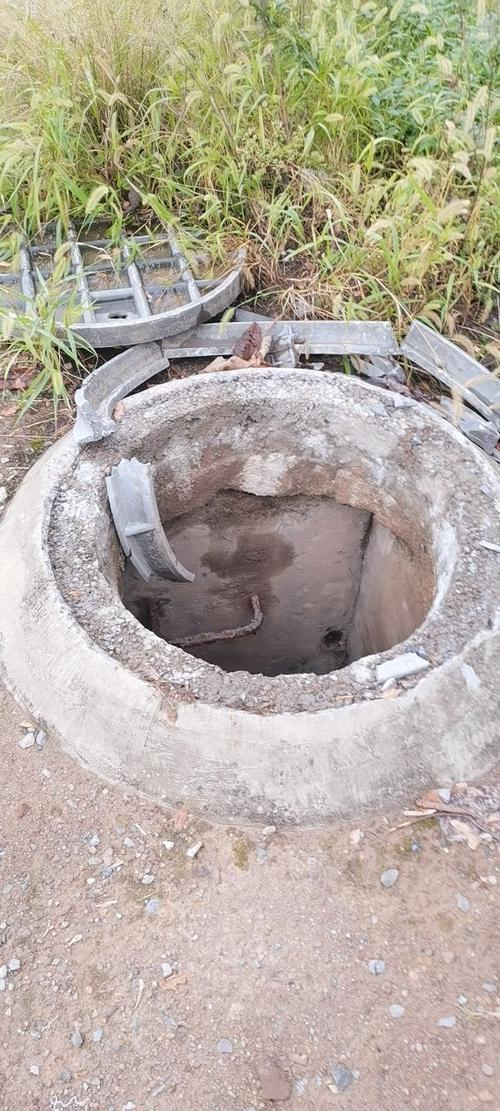uncovered: (9, 112, 486, 822)
